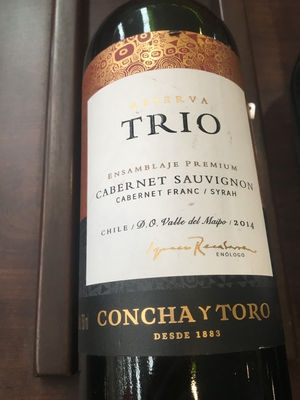trio cabernet sauvignon: (76, 5, 285, 400)
